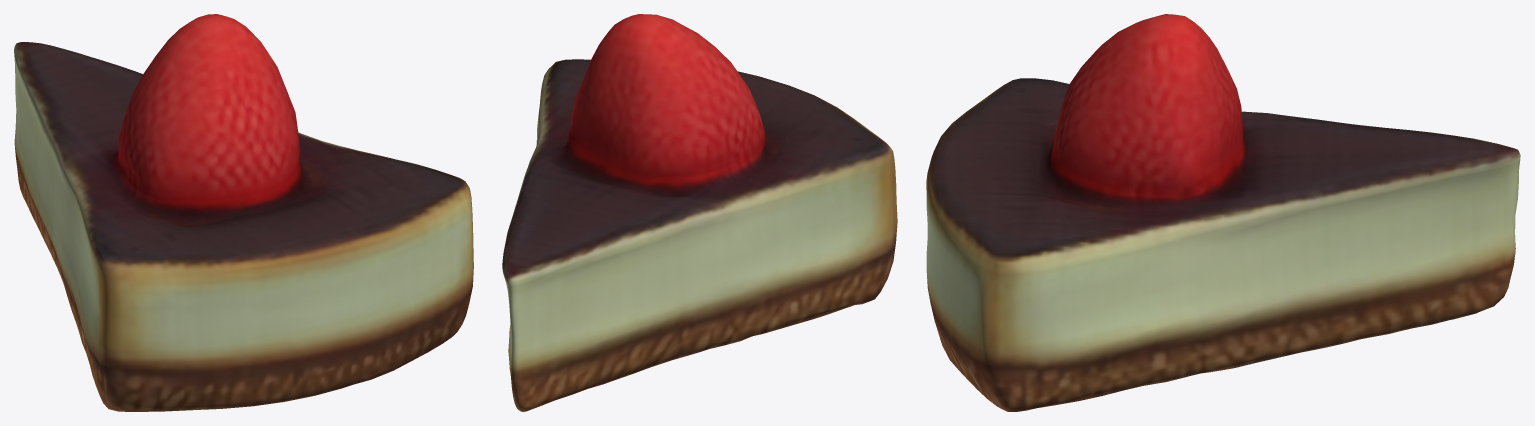
Rendered from cheesecake 01.glb.
3 views of the same model, side by side, from view 1: azimuth 30°, elevation 25°; view 2: azimuth 150°, elevation 25°; view 3: azimuth 270°, elevation 25° (orthographic). The views are drawn at different scales.
Parts seen in each view (by area): view 1: mesh; view 2: mesh; view 3: mesh.
Boxes of the visible parts, x1,y1,x2,y2 form: mesh: (14, 14, 473, 411); mesh: (502, 14, 897, 411); mesh: (926, 14, 1520, 411).
Size of the model in its own units: 0.7268 by 0.5852 by 0.9972.
1 material, 1 textured.
